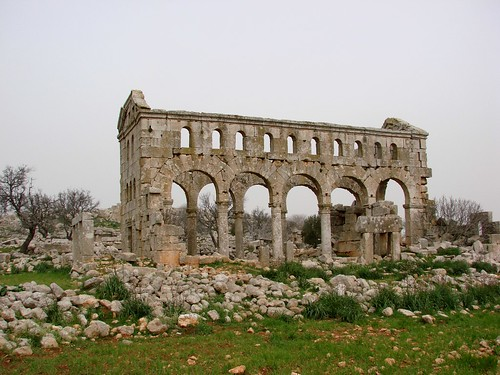building: (98, 106, 431, 258)
rocks: (1, 255, 500, 343)
sky: (1, 1, 488, 192)
